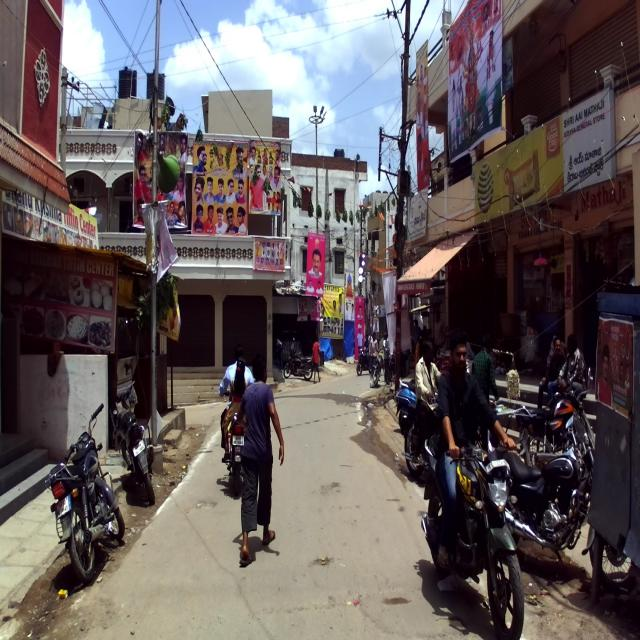motorcycle_Hero: (44, 402, 123, 584), (516, 358, 596, 483), (218, 378, 257, 497)
motorcycle_RoyalEnfield: (401, 397, 446, 479)
motorcycle_Yamaha: (420, 393, 523, 638)
motorcycle_bajaj: (488, 426, 603, 566), (112, 378, 159, 503)
scooter: (394, 370, 423, 434)
